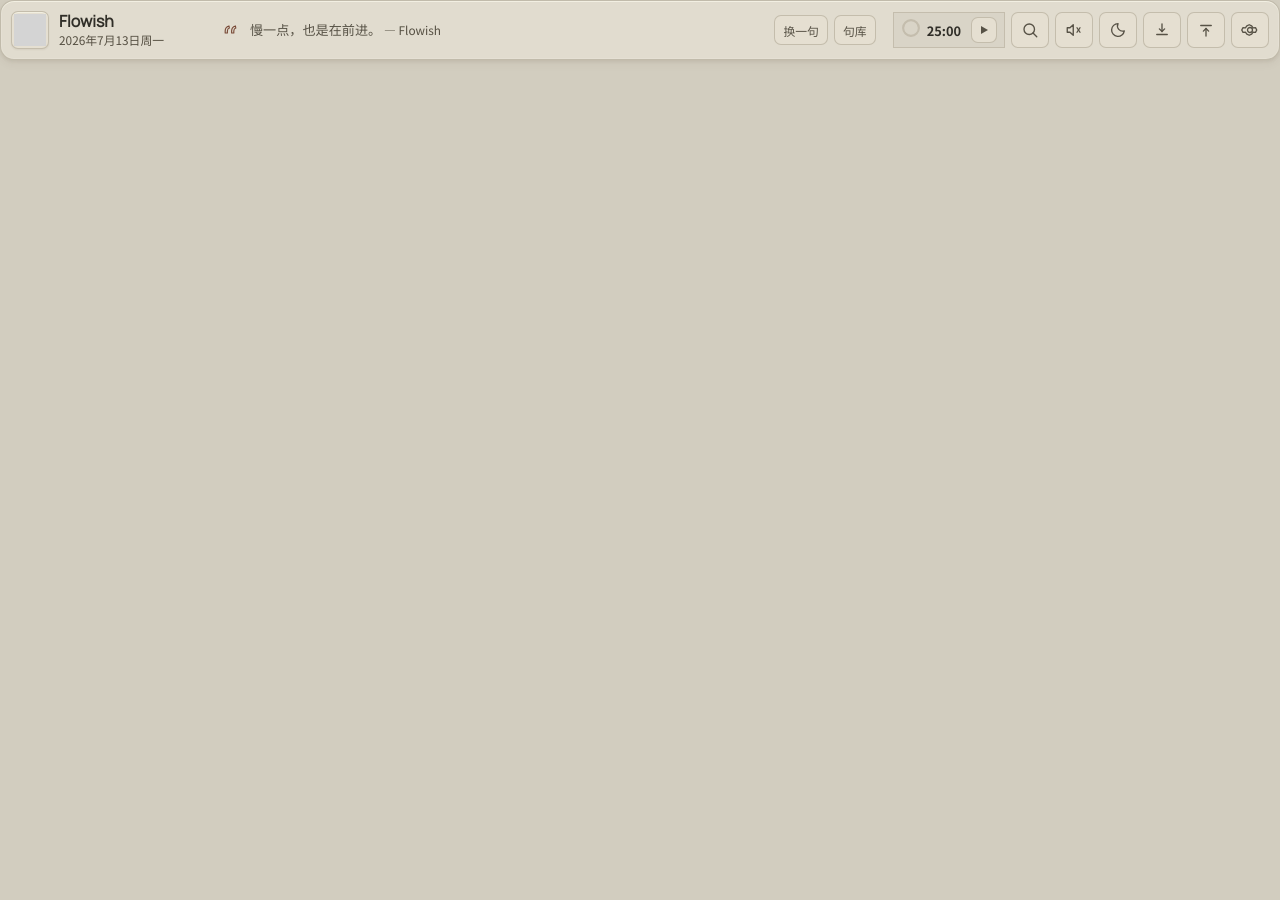
Test: TopBar › returns focus to More before the global search shortcut opens a dialog
This screenshot has width=1280, height=900.
Click the button named "打开更多".
click(1250, 30)  # box x1=1231 y1=12 x2=1269 y2=48
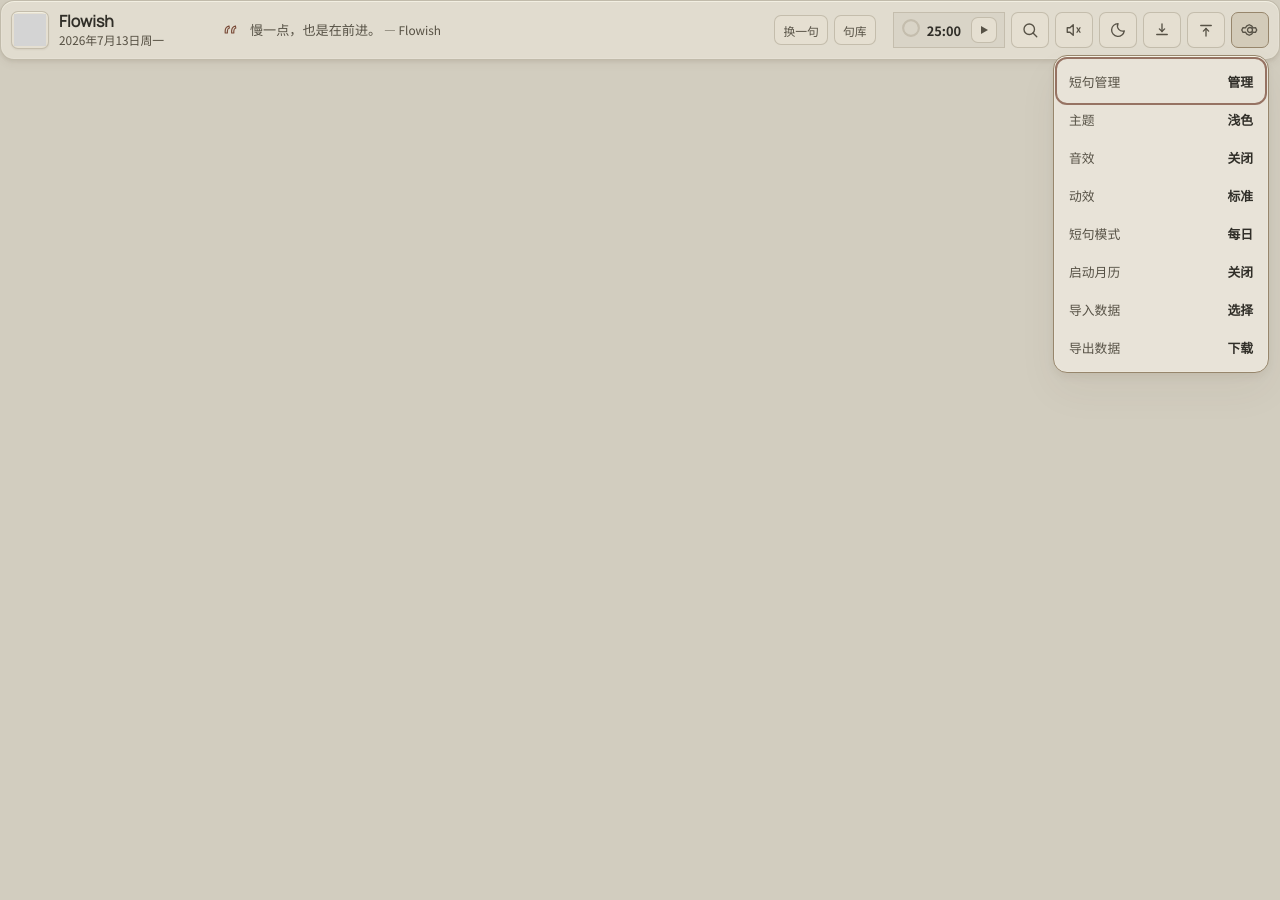
Expected: the dialog named "更多设置" is shown, x1=1053 y1=55 x2=1269 y2=373
Press k
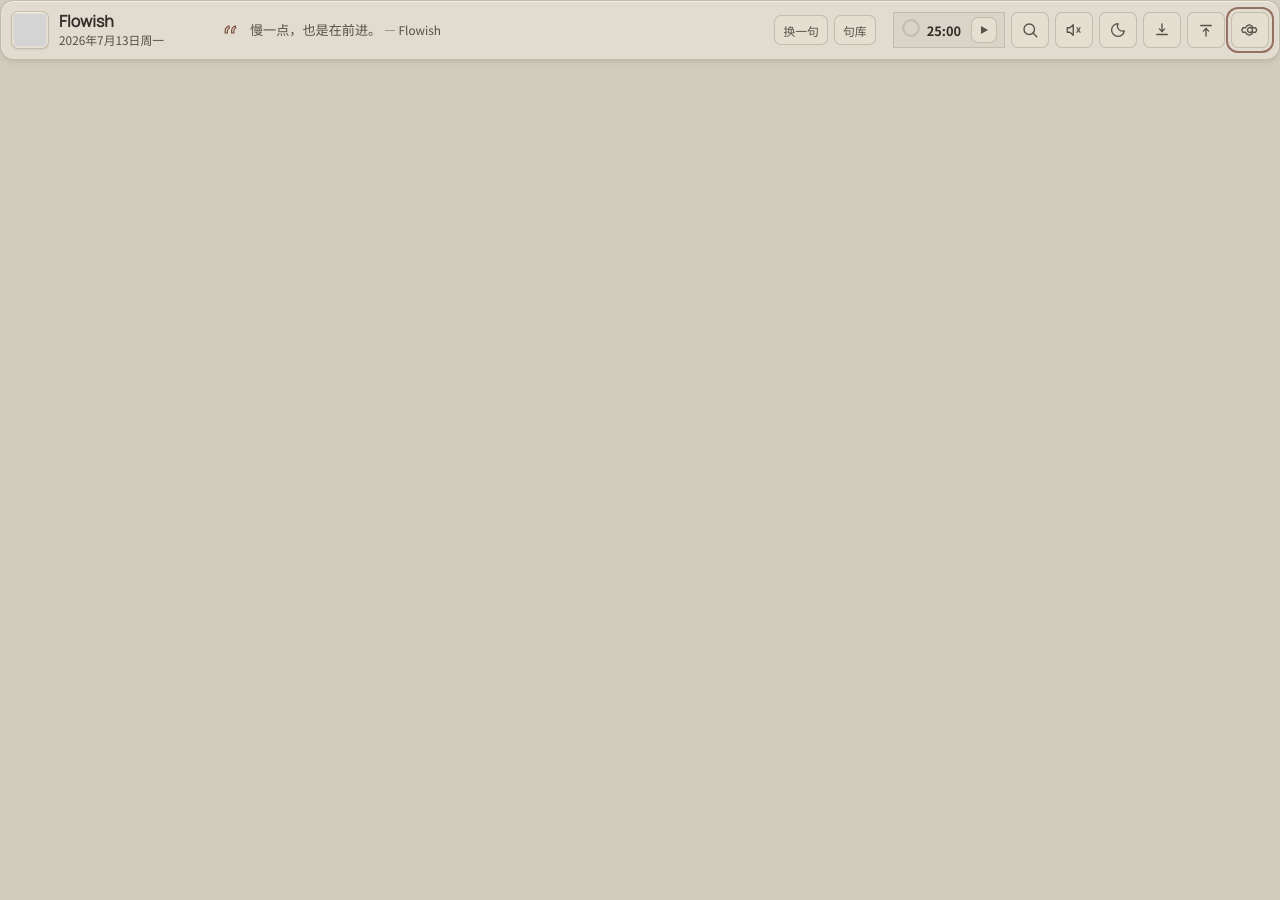
Expected: the dialog "更多设置" is gone
